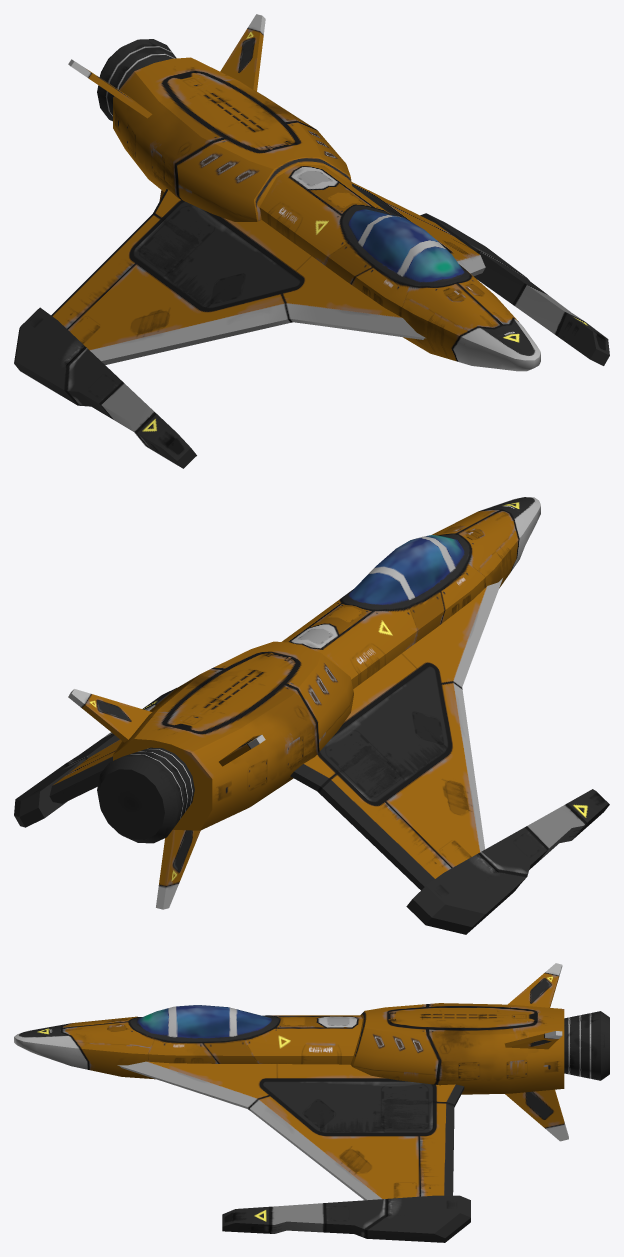
Rendered from ship_14.obj.
3 views of the same model, one above another, from view 1: azimuth 30°, elevation 25°; view 2: azimuth 150°, elevation 25°; view 3: azimuth 270°, elevation 25° (orthographic). The views are drawn at different scales.
Parts seen in each view (by area): view 1: StarSparrow16_Mesh; view 2: StarSparrow16_Mesh; view 3: StarSparrow16_Mesh.
Boxes of the visible parts, x1,y1,x2,y2 form: StarSparrow16_Mesh: (14,14,609,468); StarSparrow16_Mesh: (14,497,609,934); StarSparrow16_Mesh: (14,963,609,1242).
Bounding box in the file's own units: 7.15 × 3.25 × 10.6.
Materials: 1 (1 with a texture image).
